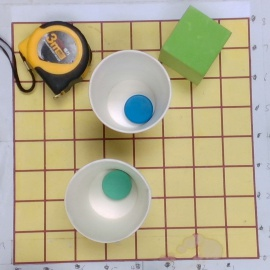cup_blue: (87, 50, 175, 134)
cup_green: (64, 156, 156, 244)
